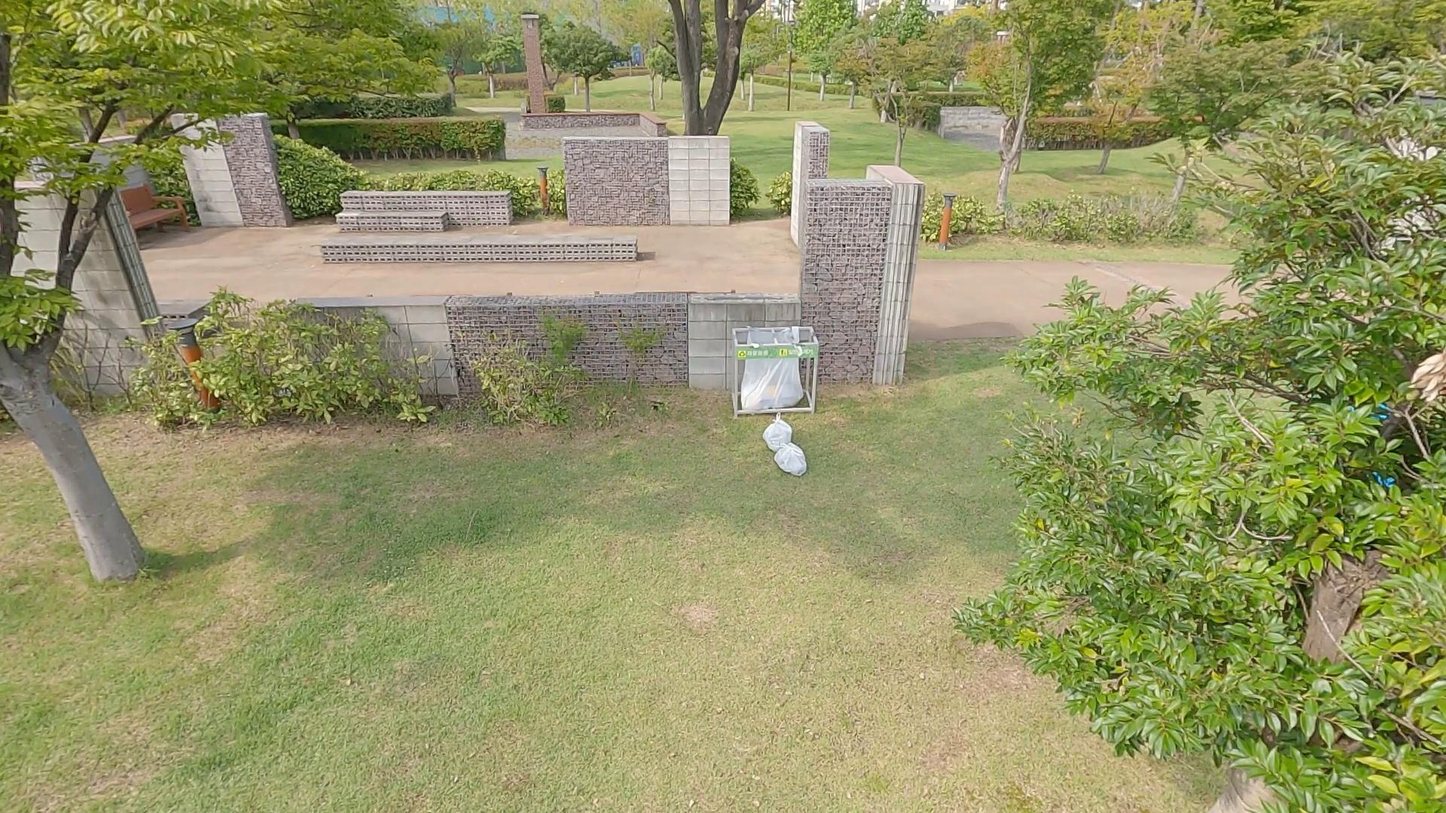trash: (759, 411, 794, 454), (771, 441, 811, 478)
